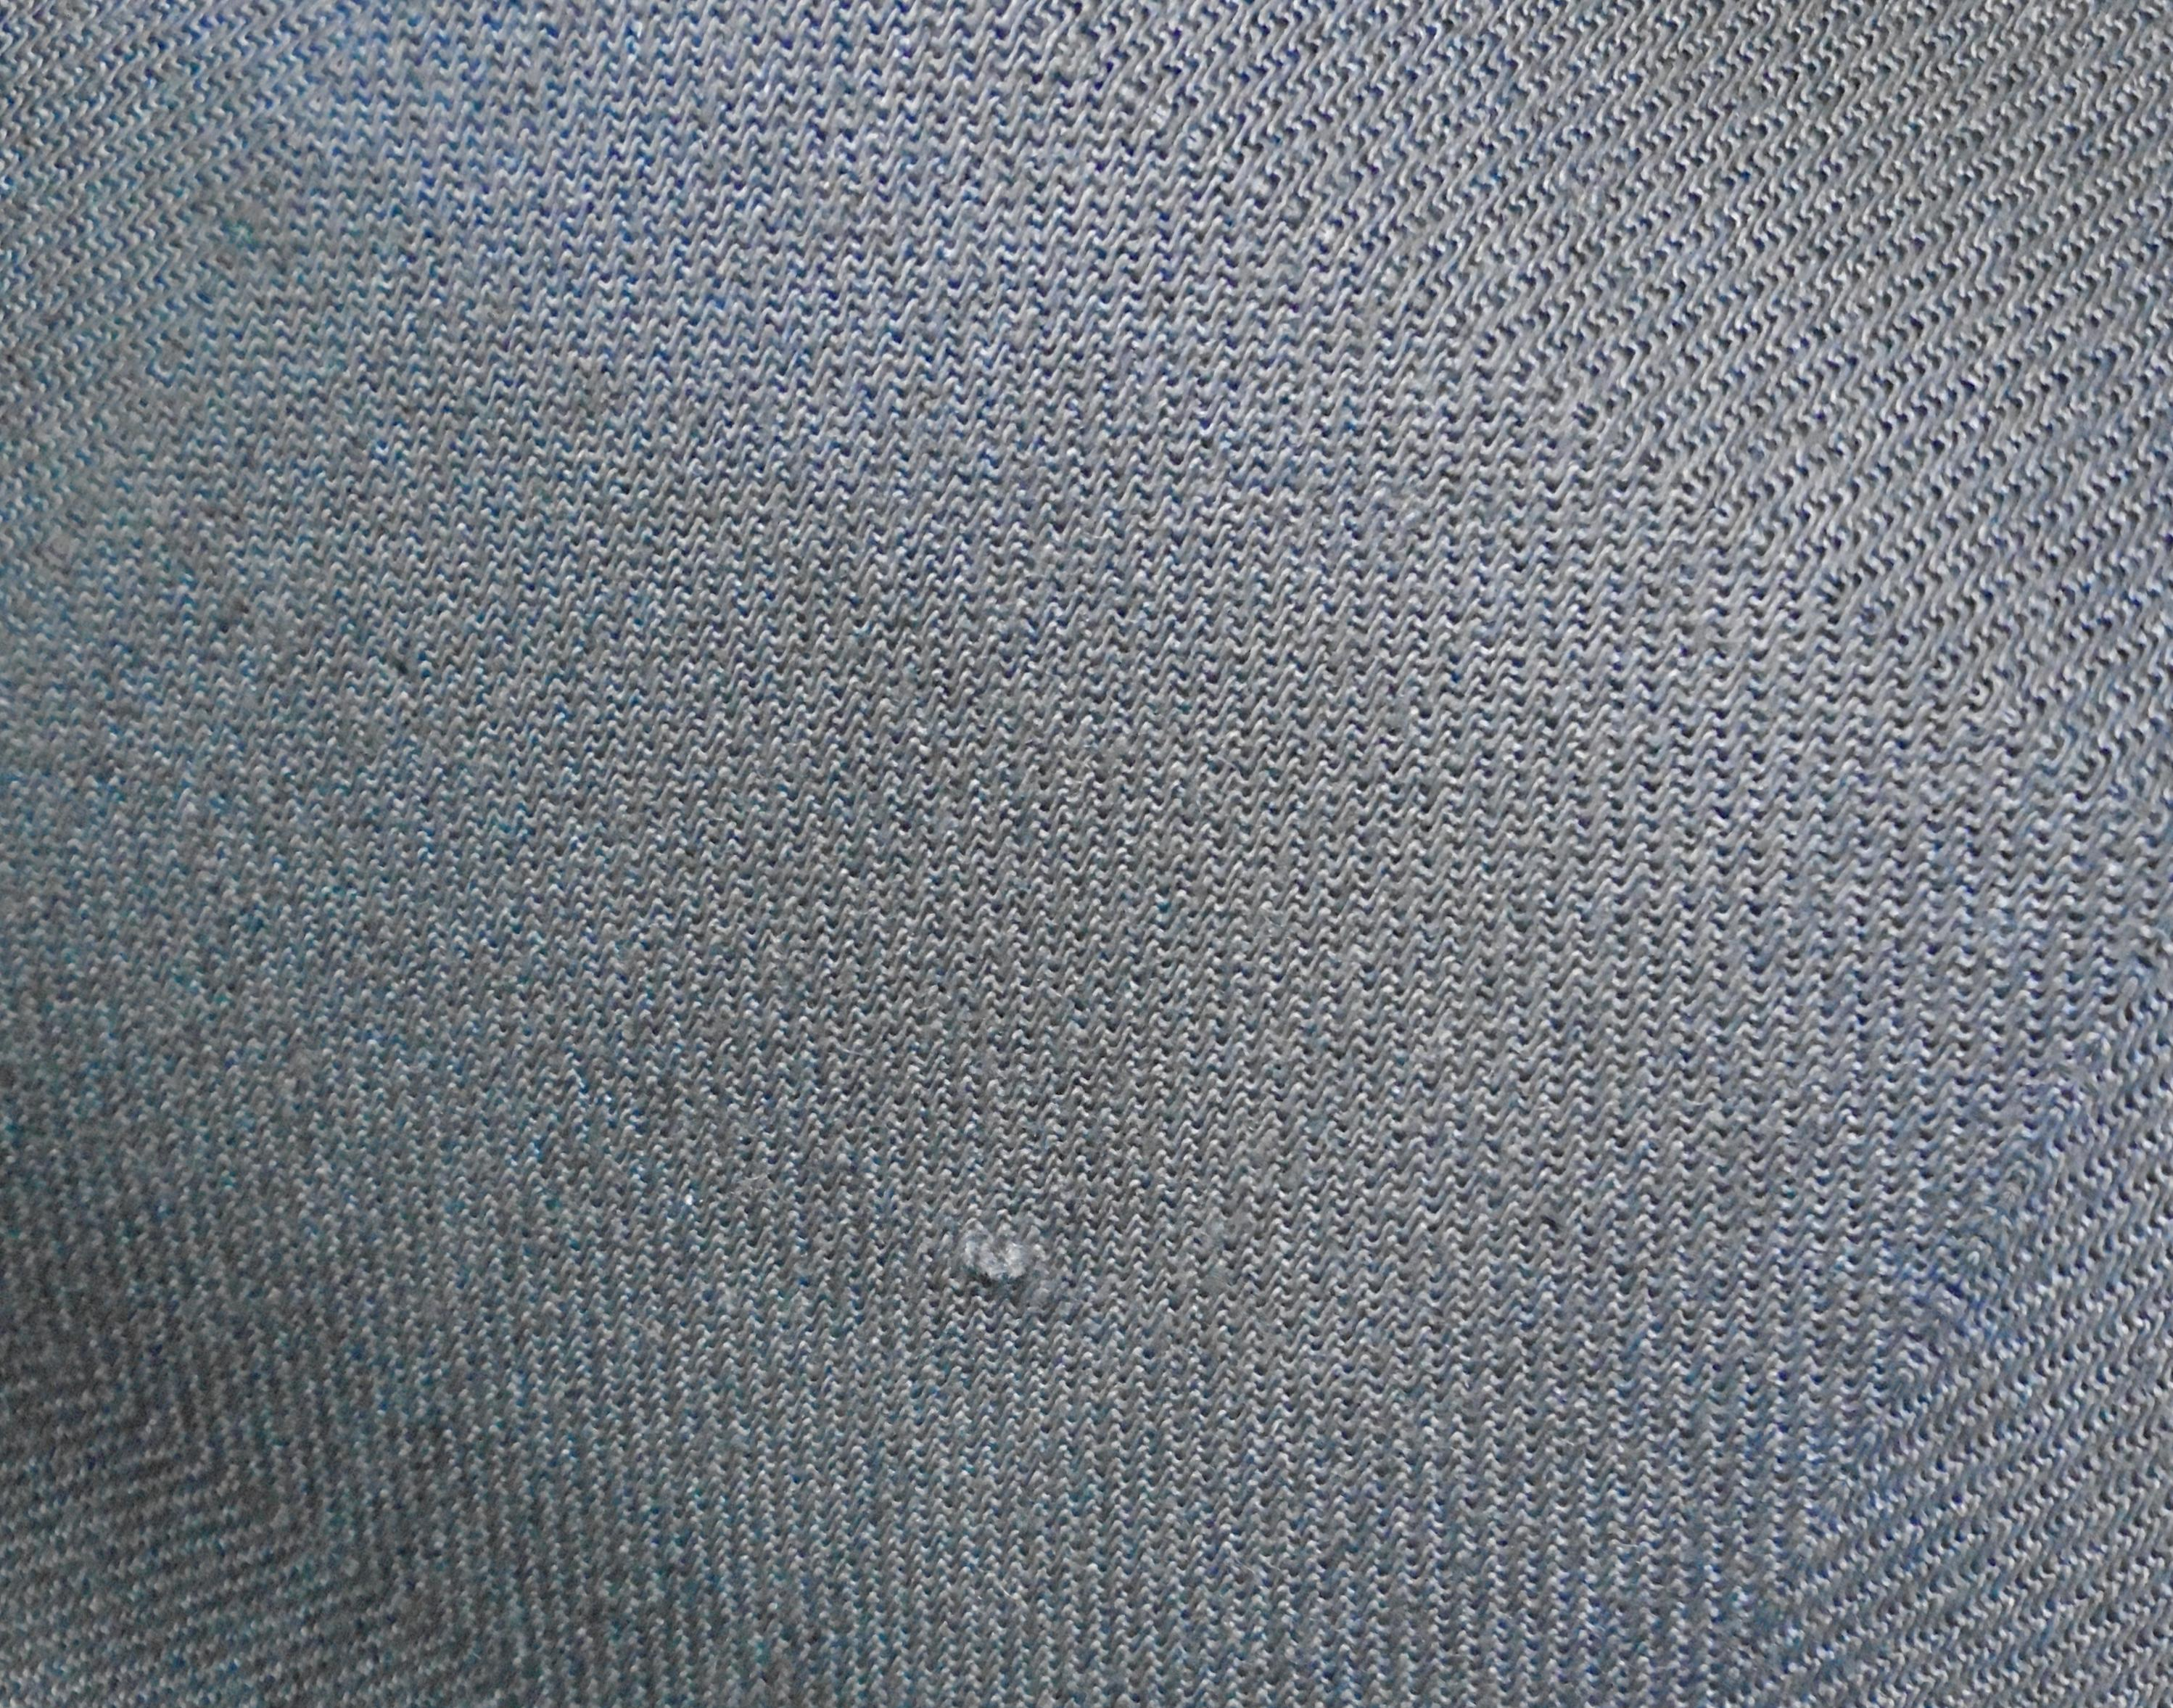knot: (919, 1195, 1069, 1329)
